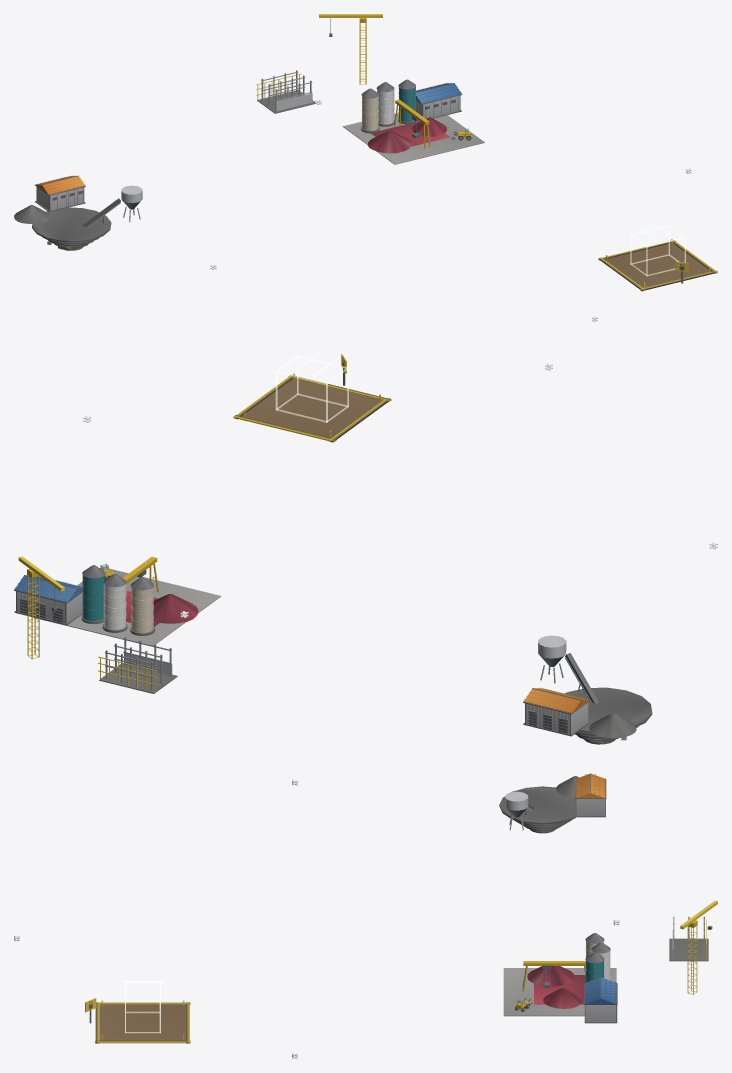
File: Sites_P2.fbx
The picture shows the model from 3 angles, top to bottom: view 1: azimuth 30°, elevation 25°; view 2: azimuth 150°, elevation 25°; view 3: azimuth 270°, elevation 25°; orthographic projection. The views are drawn at different scales.
Visible parts, largest first — view 1: Site.plant.Pad, Site.Store.Yard, Site.Quarry.Benches, Site.Construction, Site.Quarry.Shed, Site.Store.Shed, Site.Store.Silo0, Site.Store.Pile0, Site.Store.Silo1, Site.Crane, Site.plant.Ghost, Site.Store.Silo2 (+2 smaller); view 2: Site.plant.Pad, Site.Construction, Site.Store.Shed, Site.Store.Yard, Site.Quarry.Shed, Site.Quarry.Benches, Site.Store.Silo1, Site.Store.Silo0, Site.Store.Silo2, Site.Crane, Site.plant.Ghost, Site.Store.Pile0 (+2 smaller); view 3: Site.plant.Pad, Site.Store.Yard, Site.Quarry.Benches, Site.Store.Shed, Site.Quarry.Shed, Site.Construction, Site.Crane, Site.Store.Pile0, Site.Store.Pile1, Site.Quarry.Hopper, Site.Store.Gantry, Site.Store.Silo2.
Part boxes in pixels (bbox=[...]): Site.plant.Pad: bbox=[598, 239, 717, 291]; Site.Store.Yard: bbox=[342, 112, 484, 164]; Site.Quarry.Benches: bbox=[32, 207, 111, 250]; Site.Construction: bbox=[256, 70, 315, 113]; Site.Quarry.Shed: bbox=[35, 175, 85, 212]; Site.Store.Shed: bbox=[416, 83, 462, 118]; Site.Store.Silo0: bbox=[361, 88, 379, 133]; Site.Store.Pile0: bbox=[367, 130, 411, 153]; Site.Store.Silo1: bbox=[376, 82, 394, 126]; Site.Crane: bbox=[319, 14, 382, 84]; Site.plant.Ghost: bbox=[630, 222, 685, 276]; Site.Store.Silo2: bbox=[398, 79, 415, 124]; Site.plant.Pad: bbox=[233, 373, 391, 442]; Site.Construction: bbox=[98, 636, 177, 693]; Site.Store.Shed: bbox=[14, 575, 82, 625]; Site.Store.Yard: bbox=[33, 568, 221, 645]; Site.Quarry.Shed: bbox=[523, 687, 590, 736]; Site.Quarry.Benches: bbox=[565, 687, 652, 744]; Site.Store.Silo1: bbox=[102, 574, 127, 632]; Site.Store.Silo0: bbox=[130, 577, 154, 635]; Site.Store.Silo2: bbox=[81, 565, 105, 624]; Site.Crane: bbox=[18, 556, 64, 659]; Site.plant.Ghost: bbox=[275, 350, 348, 422]; Site.Store.Pile0: bbox=[153, 594, 198, 623]; Site.plant.Pad: bbox=[95, 1000, 190, 1043]; Site.Store.Yard: bbox=[503, 968, 616, 1016]; Site.Quarry.Benches: bbox=[499, 786, 575, 833]; Site.Store.Shed: bbox=[584, 977, 617, 1023]; Site.Quarry.Shed: bbox=[575, 773, 606, 817]; Site.Construction: bbox=[669, 916, 708, 961]; Site.Crane: bbox=[680, 900, 717, 994]; Site.Store.Pile0: bbox=[527, 966, 574, 986]; Site.Store.Pile1: bbox=[543, 988, 581, 1008]; Site.Quarry.Hopper: bbox=[505, 791, 528, 830]; Site.Store.Gantry: bbox=[522, 961, 585, 991]; Site.Store.Silo2: bbox=[585, 952, 604, 982].
Bounding box in the file's own units: 31468 × 5080 × 32396.
